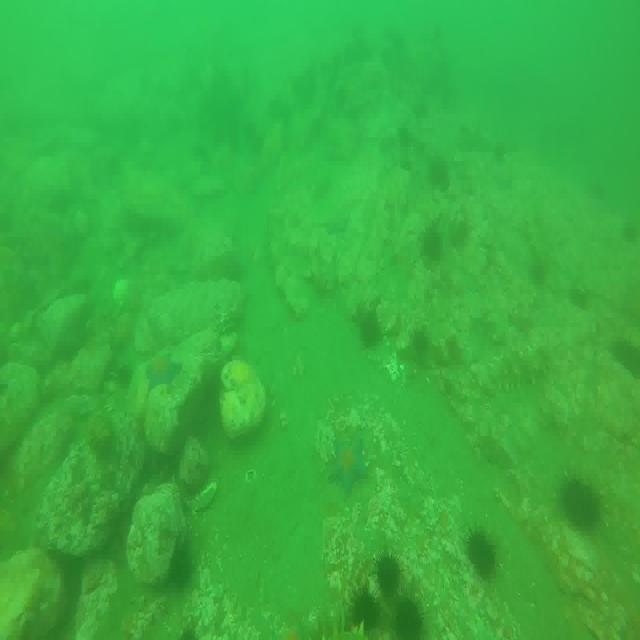echinus: (561, 478, 599, 530), (466, 530, 498, 582), (371, 551, 402, 600), (348, 588, 383, 628), (612, 337, 640, 385), (393, 598, 425, 640), (171, 547, 197, 585), (360, 308, 381, 352), (430, 156, 453, 190), (448, 213, 469, 249), (424, 225, 444, 262), (529, 260, 550, 288), (570, 286, 588, 318), (414, 326, 432, 356)
holothurian: (498, 344, 550, 392)
starfish: (326, 428, 370, 495), (143, 356, 182, 391), (324, 211, 351, 237)
